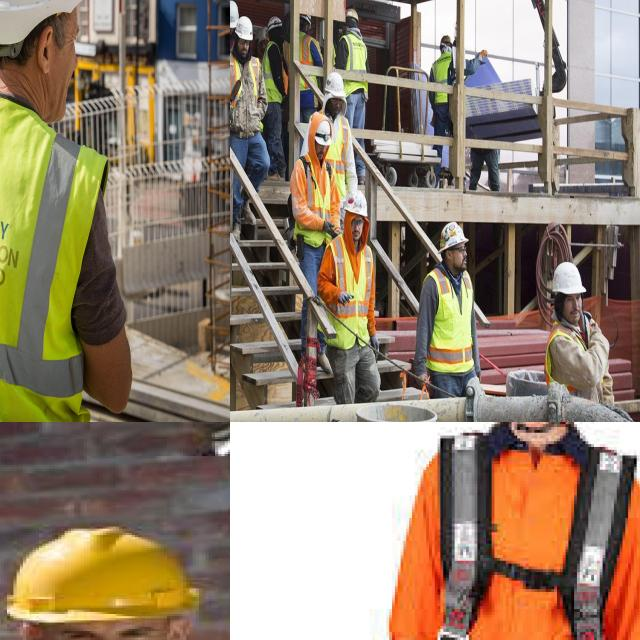Harness: (424, 429, 638, 640)
No_Ear-Protection: (17, 621, 49, 640), (165, 618, 190, 640)
No_Glasses: (54, 622, 163, 640)
face_nomask: (560, 293, 586, 328), (444, 238, 472, 268), (349, 214, 365, 243), (237, 36, 252, 60)
glasses: (348, 217, 365, 229), (454, 242, 468, 255)
hand_glove: (334, 285, 354, 309)
head_helmet: (0, 524, 210, 627), (0, 0, 97, 46), (551, 257, 588, 295), (309, 112, 334, 144), (438, 221, 468, 246), (343, 190, 372, 215), (327, 71, 348, 101), (239, 16, 256, 41), (264, 17, 283, 31), (230, 0, 238, 29)
person: (0, 0, 134, 422), (328, 188, 384, 408), (545, 258, 609, 422), (424, 222, 482, 396), (339, 0, 376, 185), (301, 114, 333, 287), (235, 16, 258, 227), (430, 31, 460, 190), (325, 75, 354, 184), (265, 17, 285, 155), (296, 15, 318, 114), (230, 0, 238, 60)
vest: (0, 93, 111, 422), (430, 265, 476, 368), (332, 242, 373, 344), (547, 321, 602, 395), (299, 157, 338, 230), (230, 56, 259, 128), (339, 33, 371, 91), (260, 41, 286, 99), (293, 39, 324, 85), (330, 118, 352, 180), (432, 58, 456, 103)
